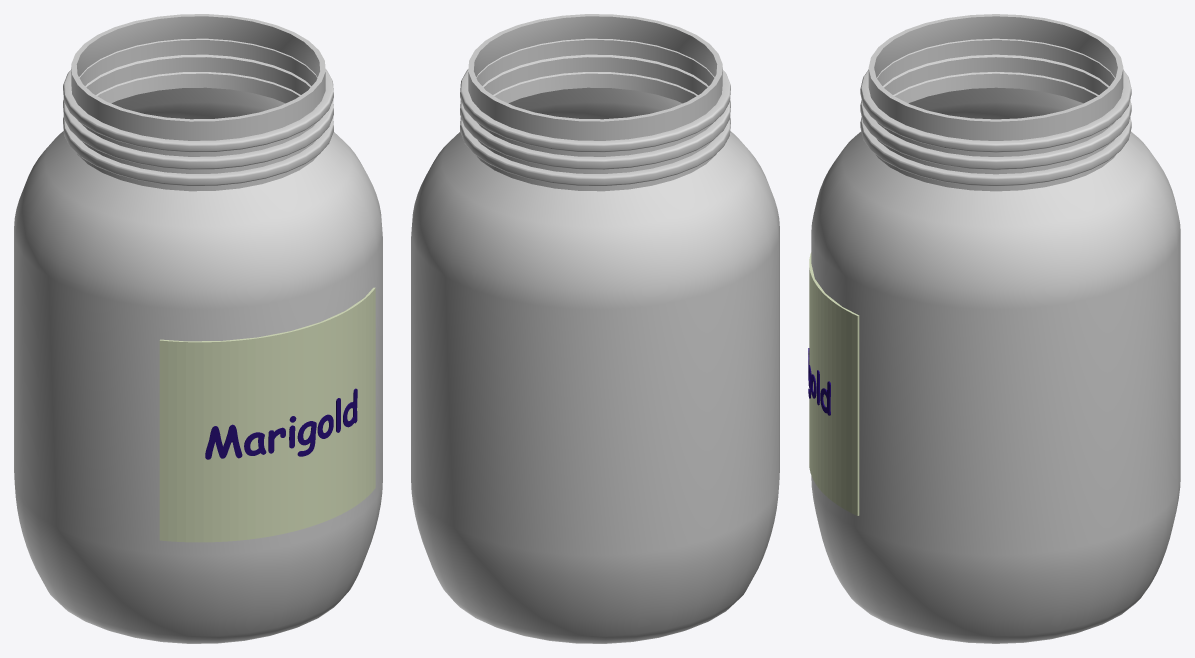
The model's file is Jar_Marigold.fbx.
3 views of the same model, side by side, from view 1: azimuth 30°, elevation 25°; view 2: azimuth 150°, elevation 25°; view 3: azimuth 270°, elevation 25° (orthographic).
Parts seen in each view (by area): view 1: Jar_Marigold; view 2: Jar_Marigold; view 3: Jar_Marigold.
Boxes of the visible parts, x1,y1,x2,y2 form: Jar_Marigold: (14, 14, 382, 643); Jar_Marigold: (411, 14, 779, 643); Jar_Marigold: (808, 14, 1180, 643).
Bounding box in the file's own units: 25.69 × 39.71 × 25.9.
